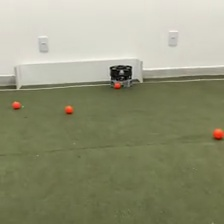ball: (211, 125, 224, 140), (11, 98, 21, 110), (63, 104, 73, 114), (114, 81, 121, 89)
goal: (13, 56, 145, 92)
robot: (108, 63, 134, 88)
